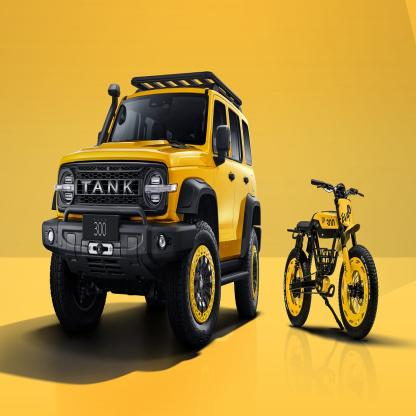bike: (284, 180, 378, 340)
car: (37, 69, 264, 350)
